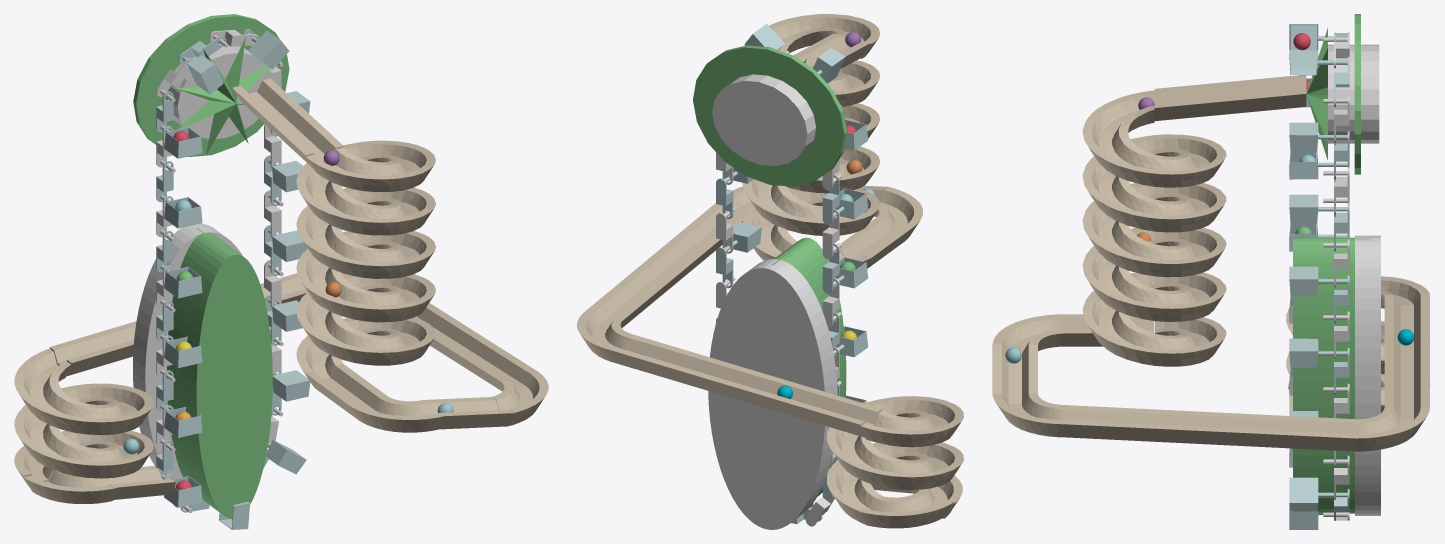
The model's file is Ball_Return_with_motor.glb.
The picture shows the model from 3 angles, left to right: view 1: azimuth 30°, elevation 25°; view 2: azimuth 150°, elevation 25°; view 3: azimuth 270°, elevation 25°; orthographic projection. The views are drawn at different scales.
Parts seen in each view (by area): view 1: Mesh_Mesh_head_geo.001_lambert2SG.001; view 2: Mesh_Mesh_head_geo.001_lambert2SG.001; view 3: Mesh_Mesh_head_geo.001_lambert2SG.001.
Part boxes in pixels (bbox=[...]): Mesh_Mesh_head_geo.001_lambert2SG.001: bbox=[14, 14, 548, 529]; Mesh_Mesh_head_geo.001_lambert2SG.001: bbox=[577, 14, 963, 529]; Mesh_Mesh_head_geo.001_lambert2SG.001: bbox=[992, 14, 1430, 529].
Bounding box in the file's own units: 0.2708 × 0.338 × 0.266.
